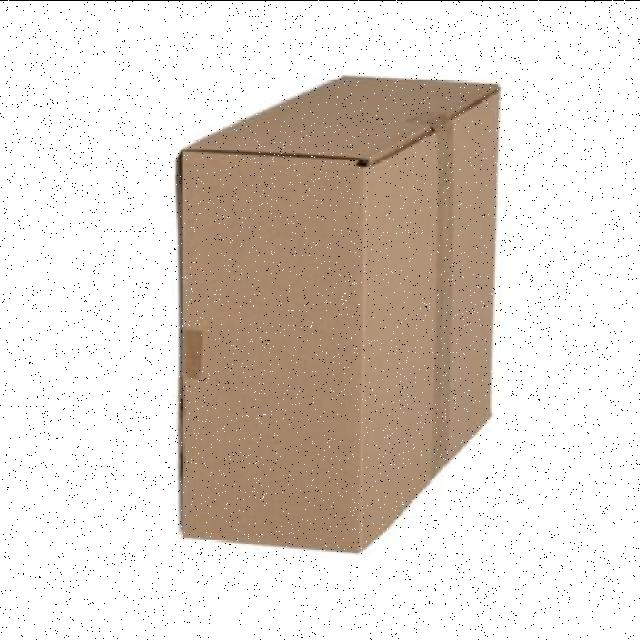normal: (152, 66, 512, 568)
